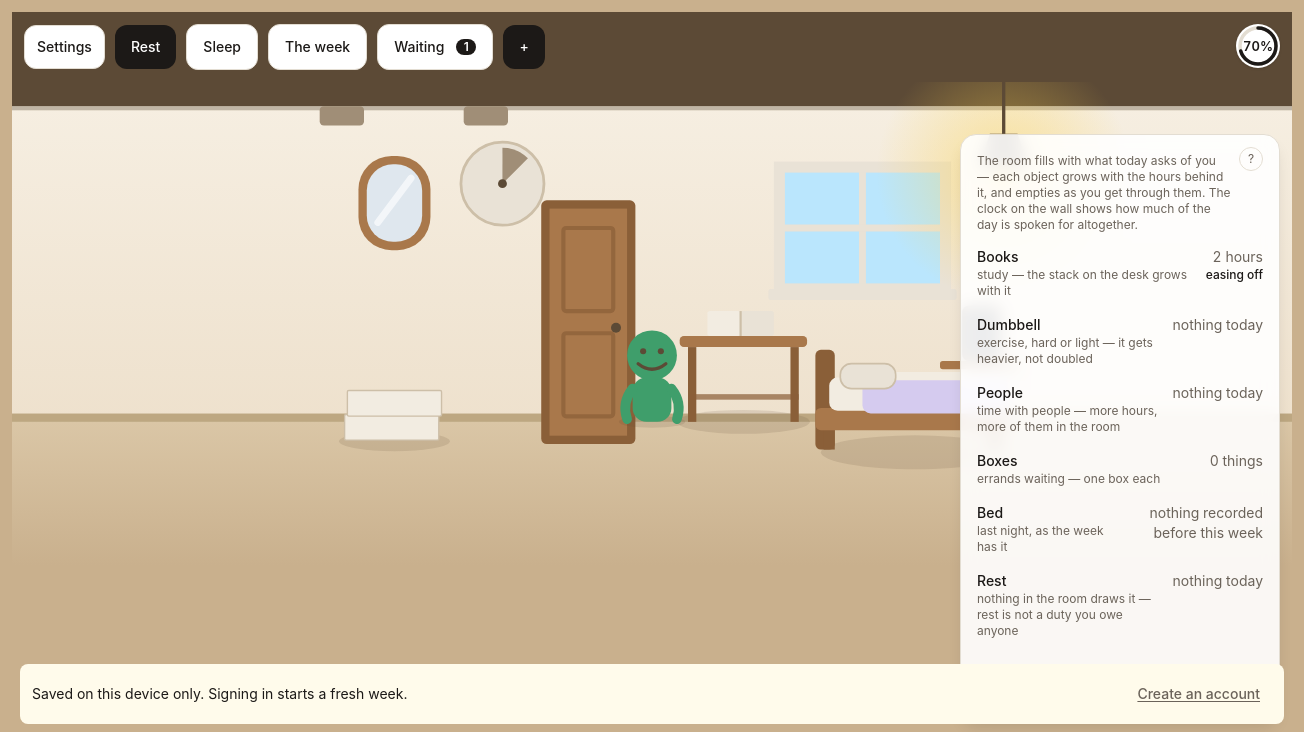
Test case: the panel beside the room › shows what is actually on today behind the object
This screenshot has width=1304, height=732.
Click the button with test id "panel-row-books".
click(1120, 273)  # box 969,241 -> 1271,305
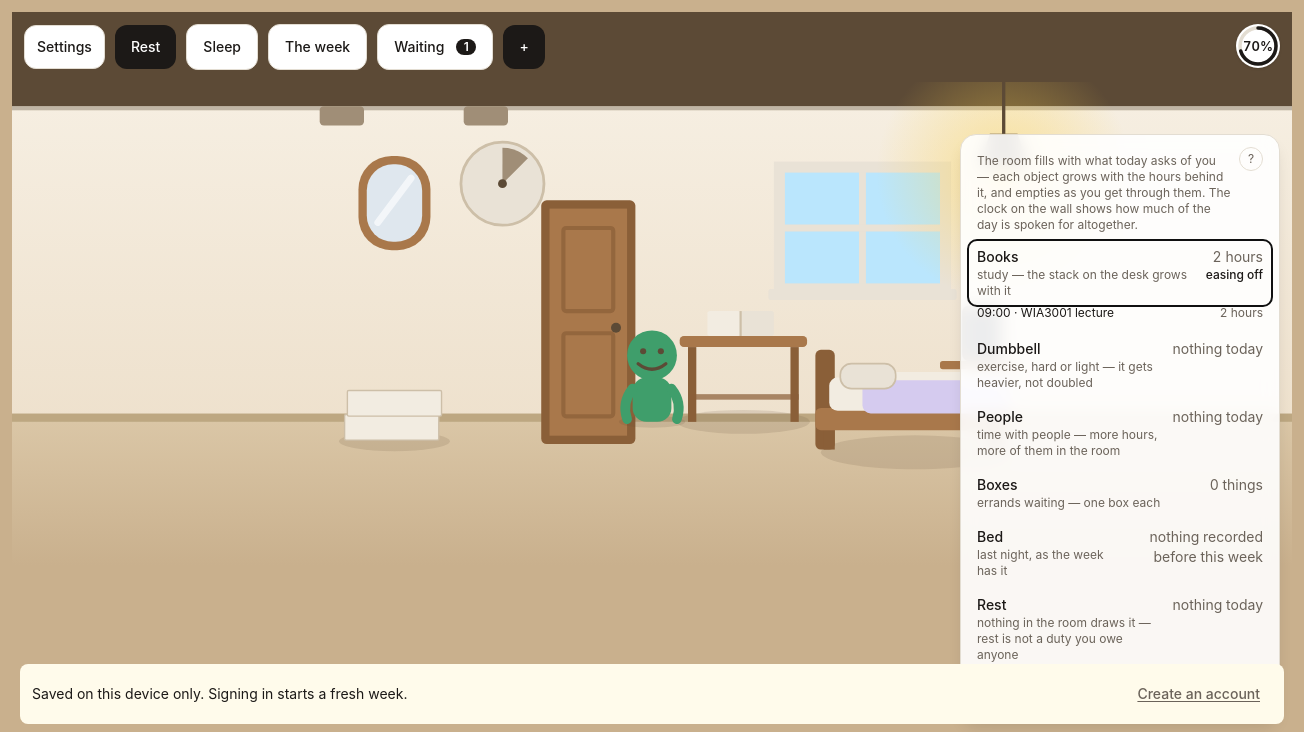
Result: the text "09:00 · WIA3001 lecture" is shown at 977,305 -> 1114,321
